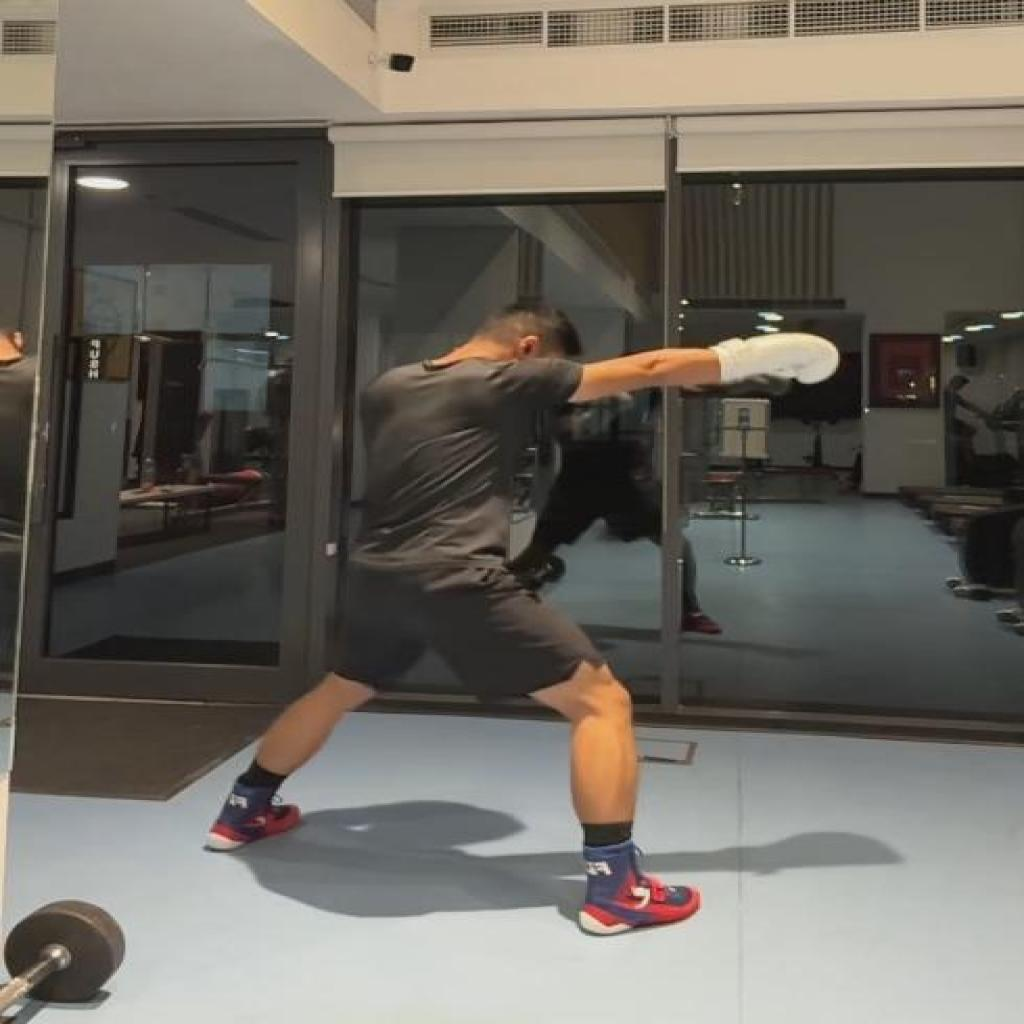jab: (203, 296, 842, 938)
